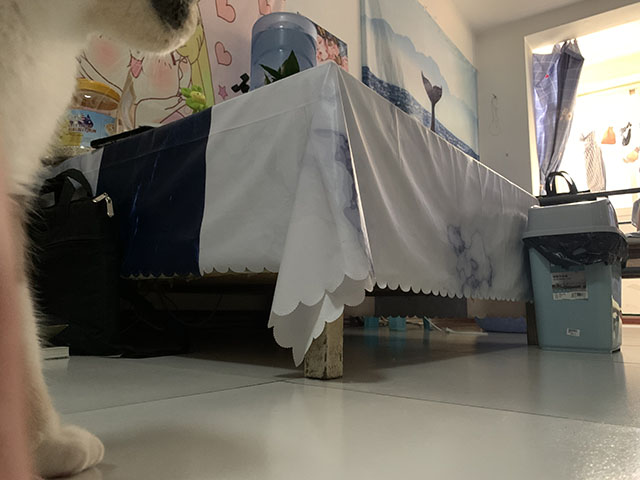table: (25, 58, 541, 382)
trashcan: (521, 197, 629, 355)
